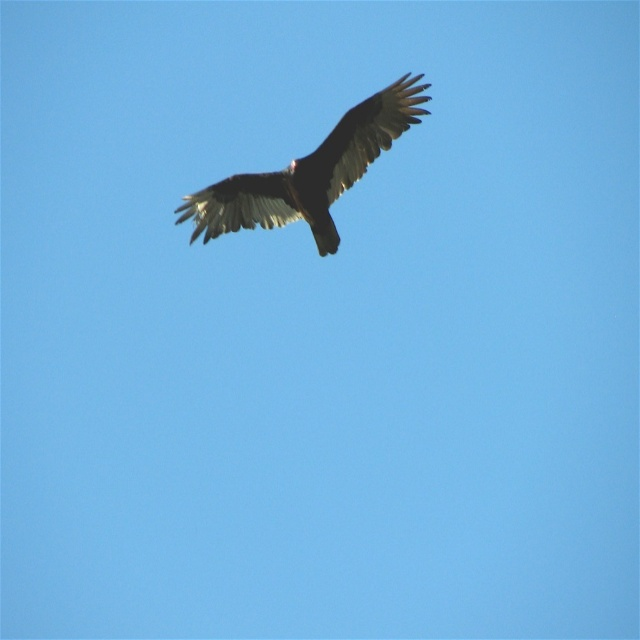Eagle: (171, 68, 436, 256)
